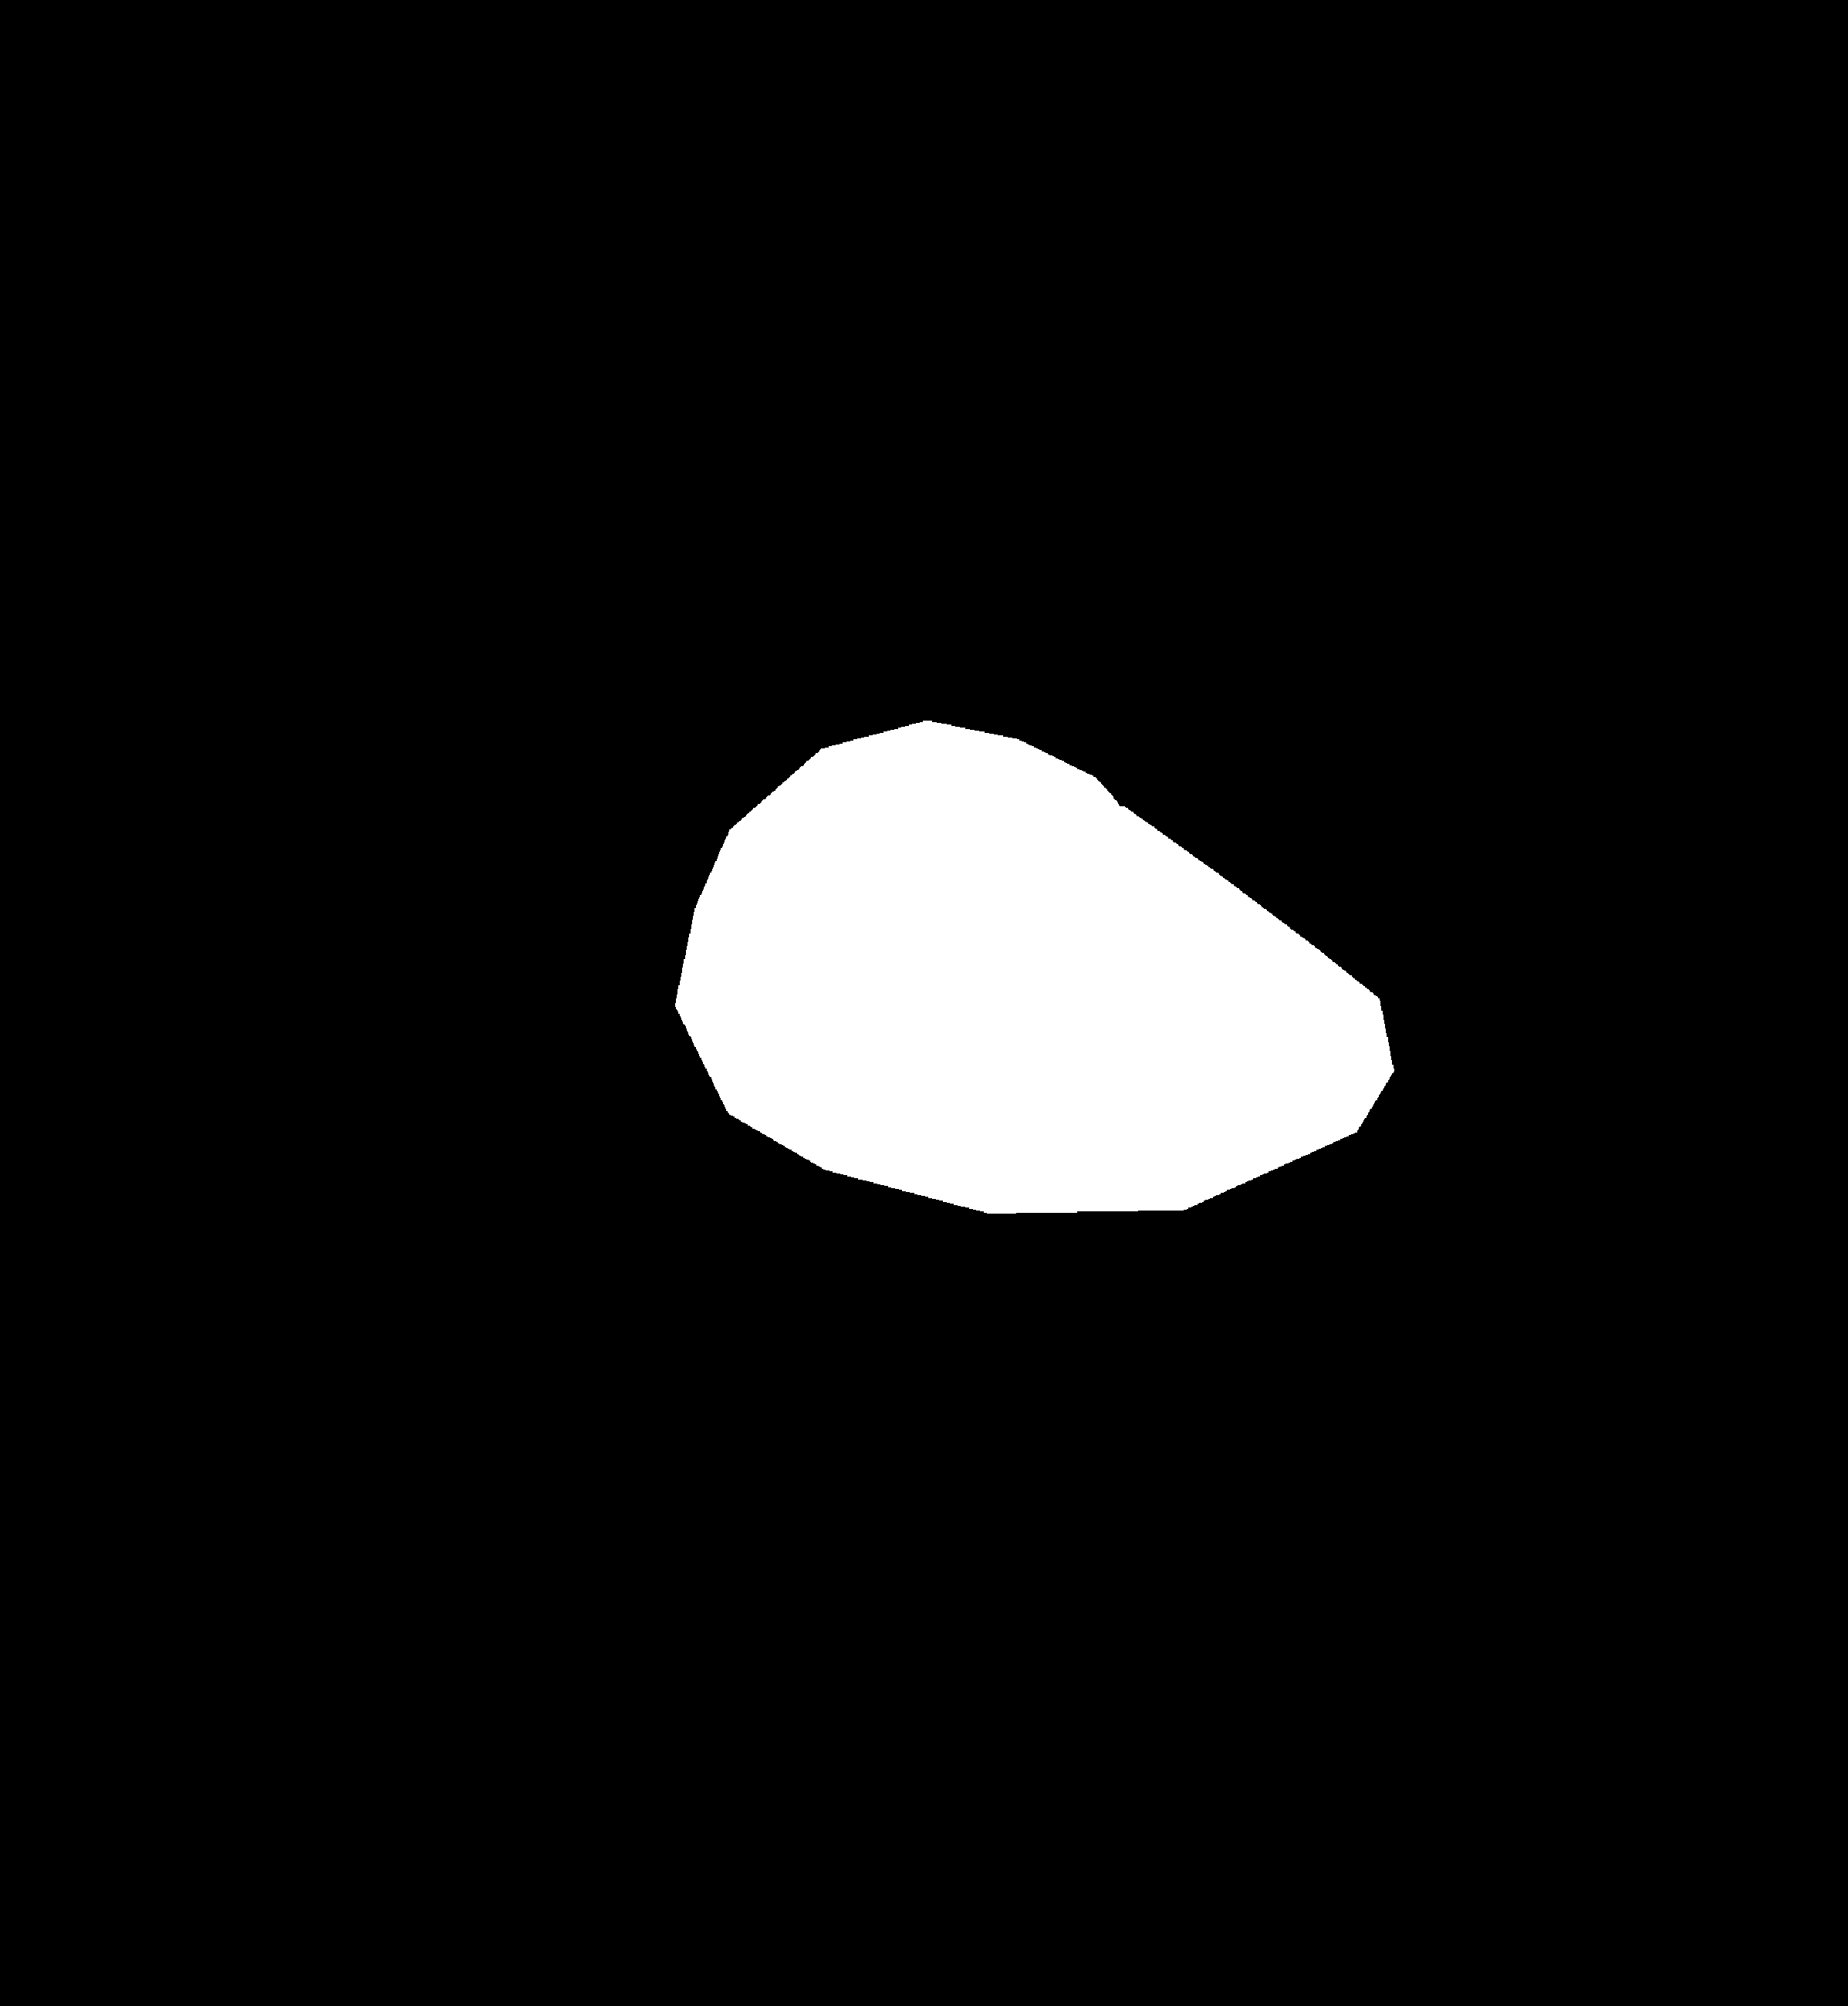heart: (619, 881, 1458, 1223)
left_lung: (320, 267, 815, 1179)
right_lung: (939, 271, 1497, 1181)
